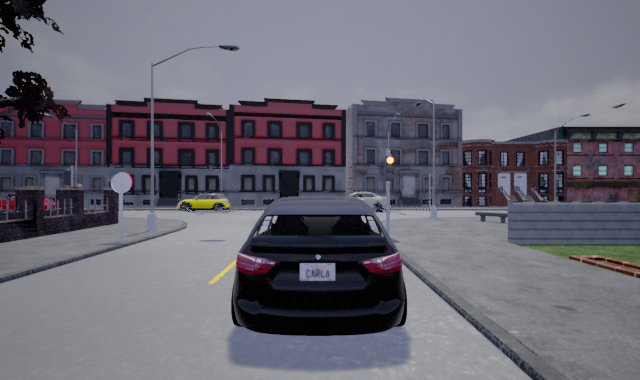traffic_light: (385, 155, 395, 182)
vehicle: (229, 196, 407, 337), (325, 191, 391, 213), (1, 191, 56, 216), (175, 193, 231, 213)
